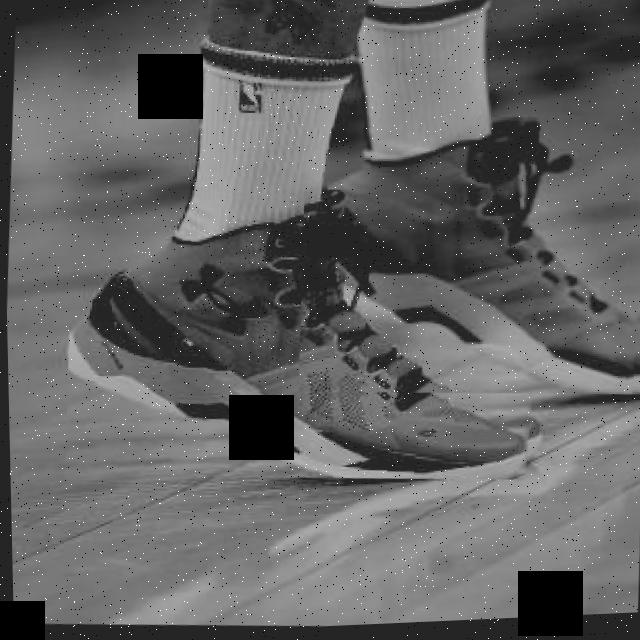shoe: (58, 171, 553, 502), (291, 107, 640, 413)
